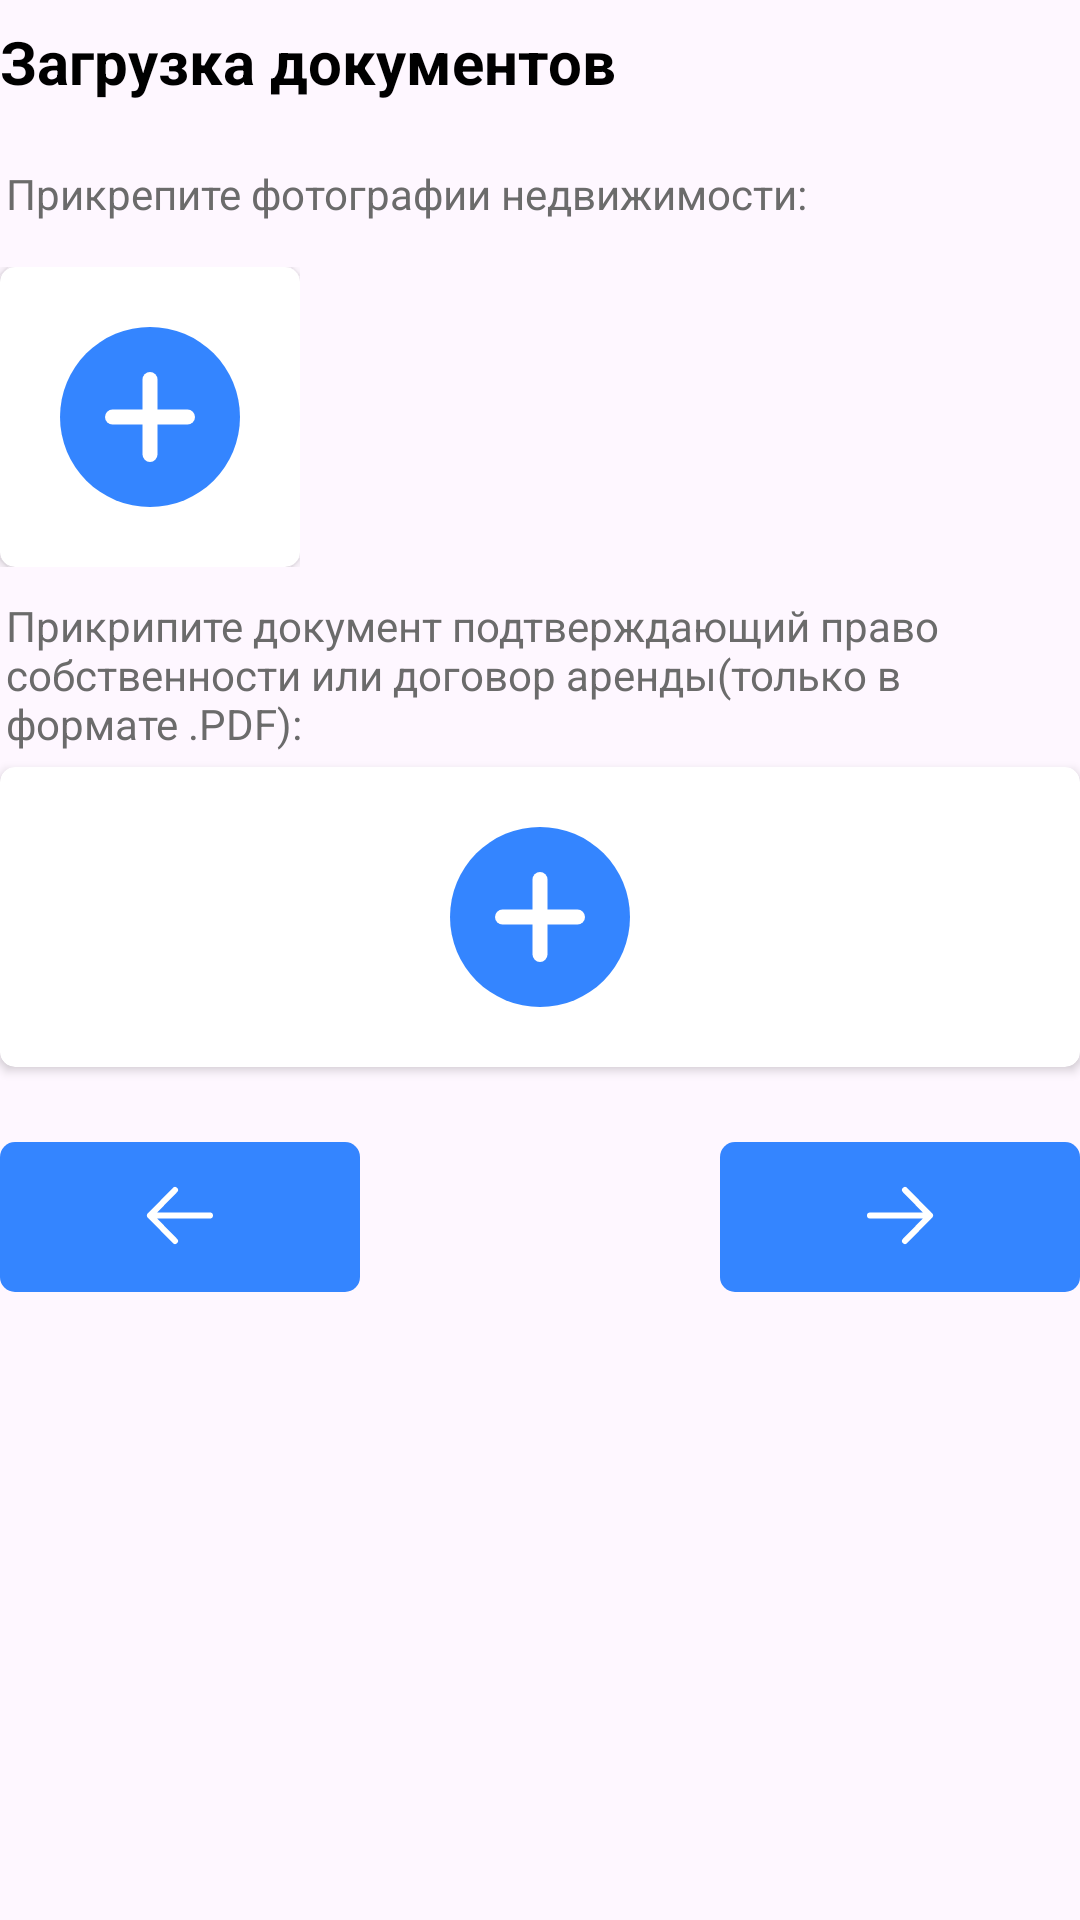

Where to tap for icons on this 1080px x 1920px app screen, as (x,y):
add circle: (150,417), (540,917)
arrow back: (180,1217)
arrow forward: (900,1217)
